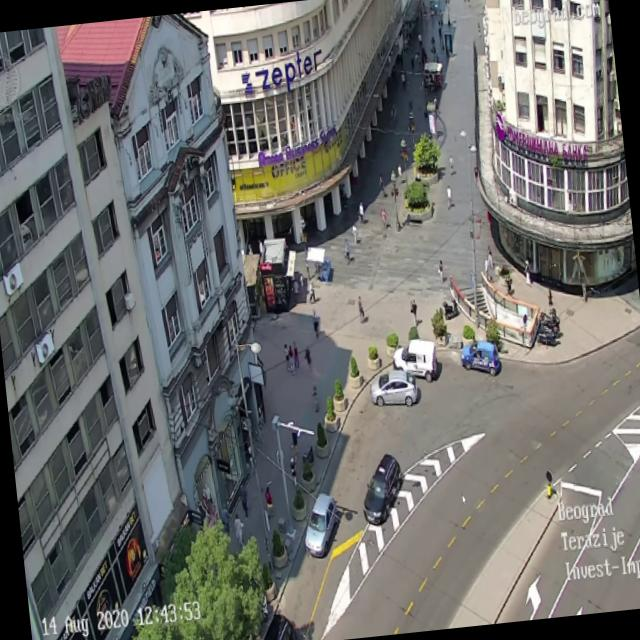car: (357, 451, 406, 526), (299, 491, 342, 558), (390, 334, 440, 389), (367, 368, 418, 410), (458, 337, 502, 379)
